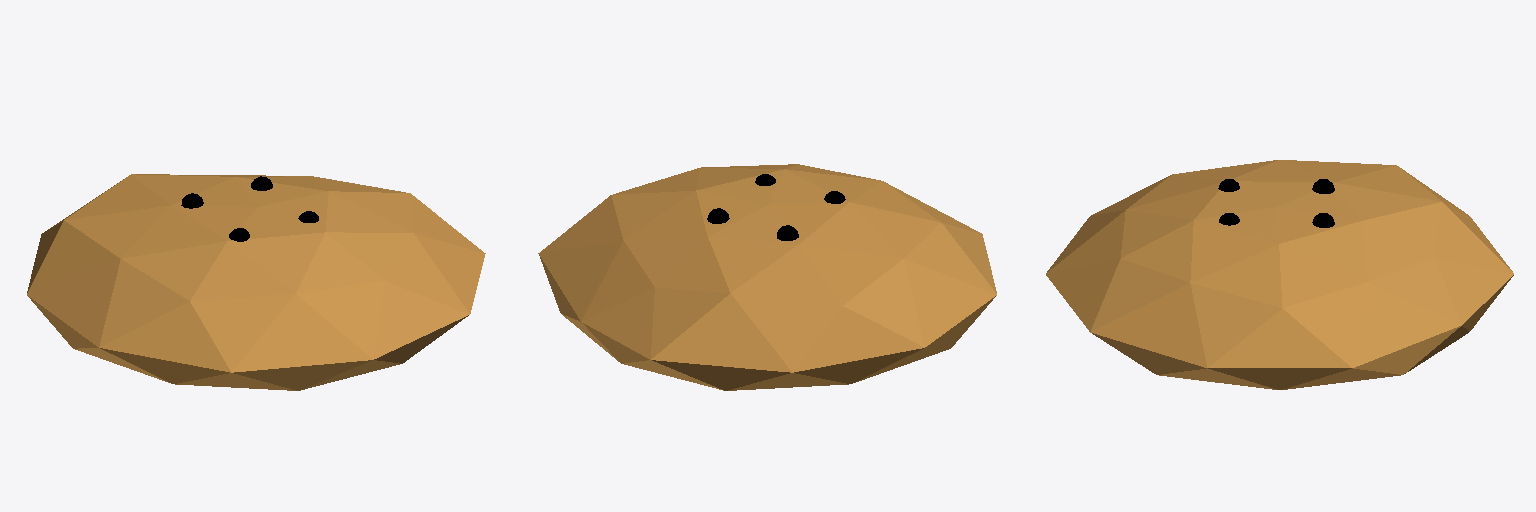
File: Chip.obj
3 renders of one model, left to right at view 1: azimuth 30°, elevation 25°; view 2: azimuth 150°, elevation 25°; view 3: azimuth 270°, elevation 25°, orthographic.
Visible parts, largest first — view 1: Icosphere; view 2: Icosphere; view 3: Icosphere.
Part boxes in pixels (bbox=[...]): Icosphere: bbox=[27, 174, 485, 390]; Icosphere: bbox=[538, 164, 996, 390]; Icosphere: bbox=[1046, 160, 1513, 389].
Size of the model in its own units: 1.2 by 0.3337 by 1.26.